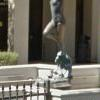Statue: (34, 1, 75, 80)
